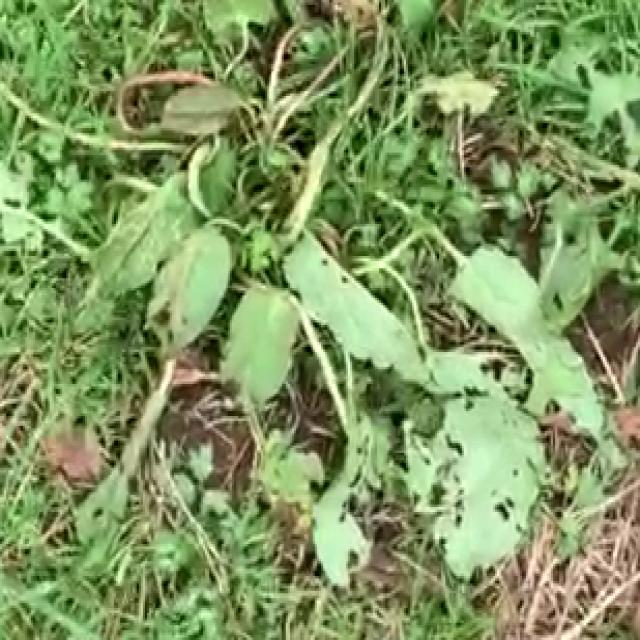organic waste: (43, 17, 640, 534)
